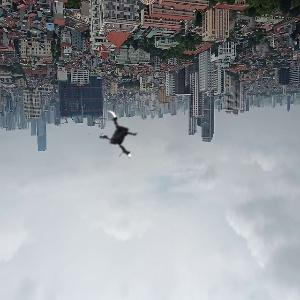drone: (89, 108, 149, 168)
